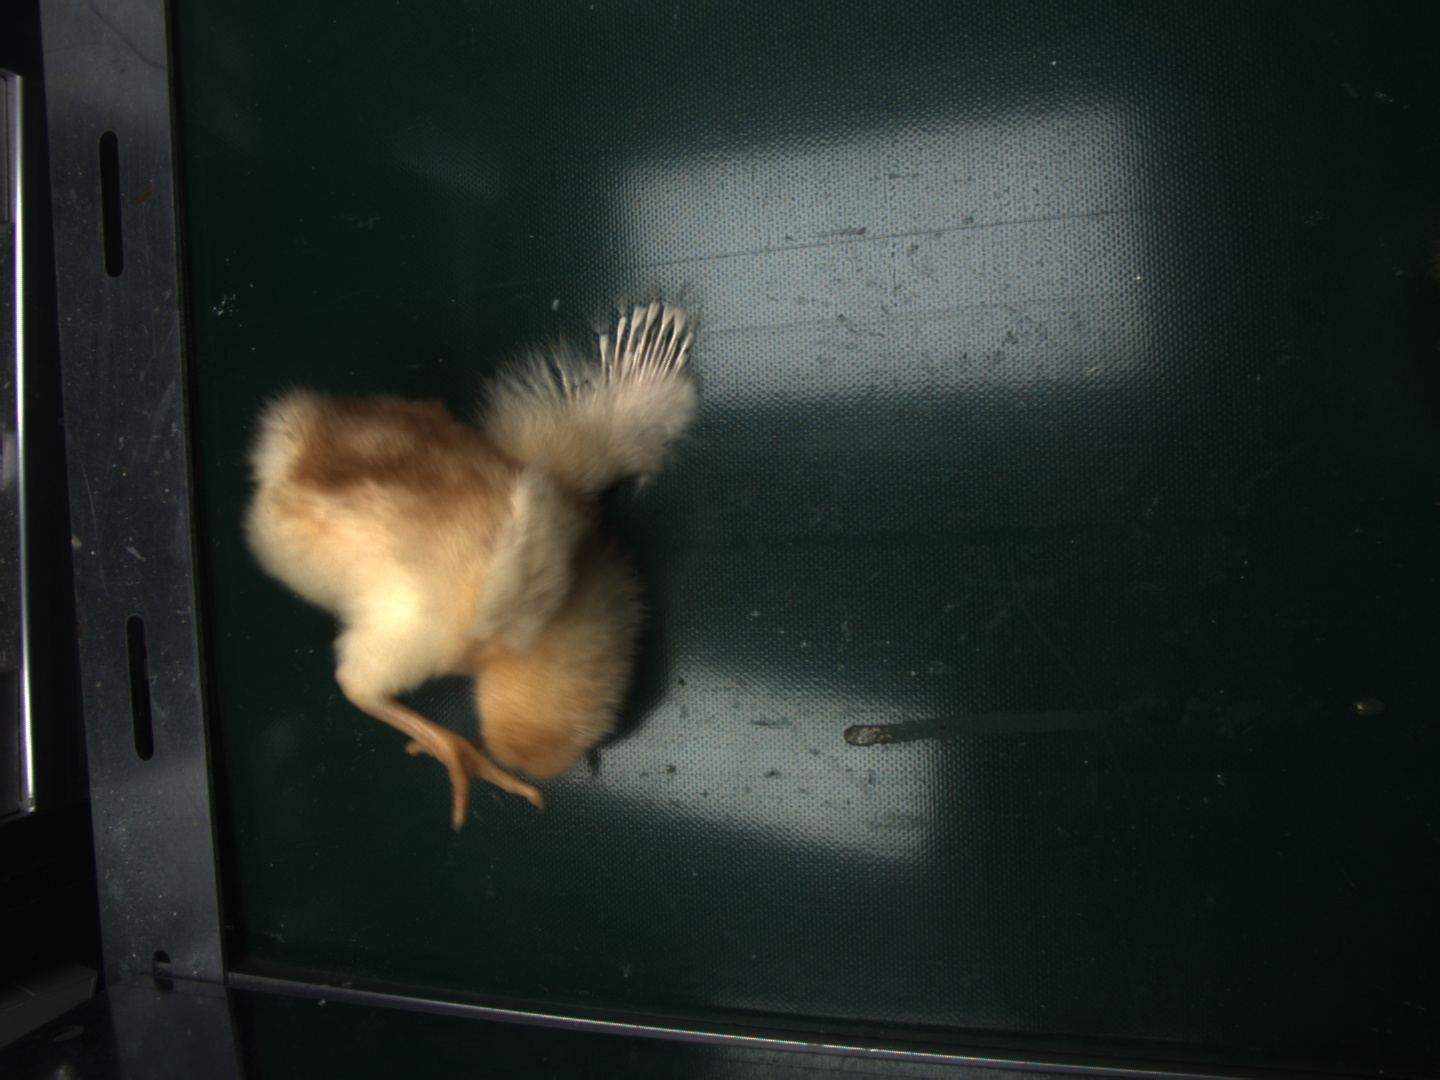female: (602, 299, 698, 379)
